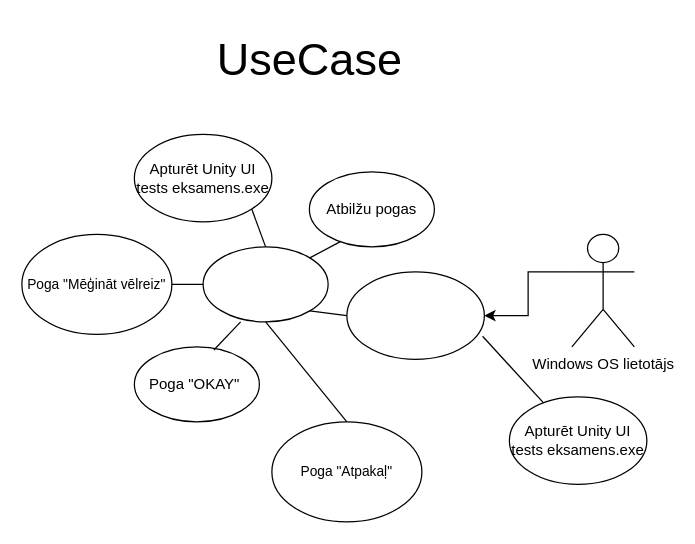
Some shapes in this 695 by 544 pixel diagram are drawn without their labels. The shapes that lost their labels are listed below. From the top down, each one's centre as x and y in pixels, then its label:
pixel 265 284: Poga "Sākt"
pixel 415 315: Startē Unity UI tests eksamens.exe
